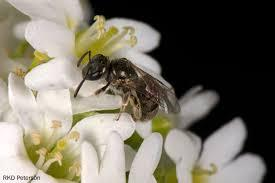Lasioglossum: (69, 46, 169, 124)
